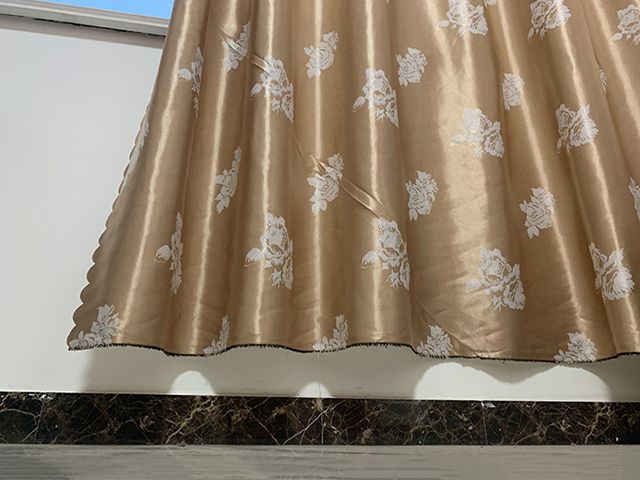curtain: (66, 1, 639, 365)
